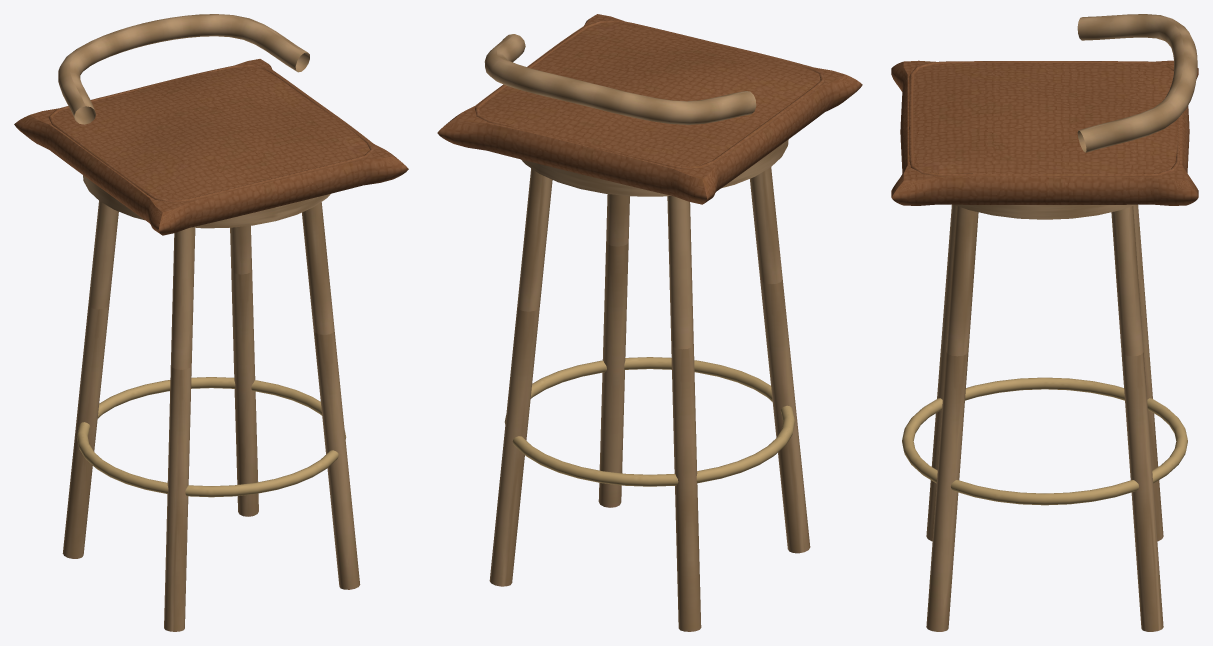
The model's file is kowhai-hero-kit-09.glb.
3 views of the same model, side by side, from view 1: azimuth 30°, elevation 25°; view 2: azimuth 150°, elevation 25°; view 3: azimuth 270°, elevation 25° (orthographic). The views are drawn at different scales.
Visible parts, largest first — view 1: SubPart (×3), BarStool_SplayedLeg_2, BarStool_SplayedLeg_1, BarStool_SplayedLeg_3, BarStool_LowLumbarBackrest, BarStool_SplayedLeg_4, BarStool_BrassFootrestRing; view 2: SubPart (×3), BarStool_SplayedLeg_3, BarStool_SplayedLeg_4, BarStool_SplayedLeg_2, BarStool_LowLumbarBackrest, BarStool_SplayedLeg_1, BarStool_BrassFootrestRing; view 3: SubPart (×3), BarStool_SplayedLeg_1, BarStool_SplayedLeg_4, BarStool_BrassFootrestRing, BarStool_LowLumbarBackrest, BarStool_SplayedLeg_2, BarStool_SplayedLeg_3.
Boxes of the visible parts, x1,y1,x2,y2 form: SubPart (×3): (14, 59, 408, 235); BarStool_SplayedLeg_2: (164, 227, 195, 631); BarStool_SplayedLeg_1: (302, 202, 360, 589); BarStool_SplayedLeg_3: (62, 201, 118, 558); BarStool_LowLumbarBackrest: (58, 14, 309, 124); BarStool_SplayedLeg_4: (230, 225, 258, 516); BarStool_BrassFootrestRing: (76, 377, 346, 497); SubPart (×3): (437, 14, 862, 204); BarStool_SplayedLeg_3: (667, 196, 701, 631); BarStool_SplayedLeg_4: (489, 168, 552, 586); BarStool_SplayedLeg_2: (750, 167, 810, 553); BarStool_LowLumbarBackrest: (484, 34, 756, 124); BarStool_SplayedLeg_1: (598, 194, 629, 507); BarStool_BrassFootrestRing: (504, 357, 795, 486); SubPart (×3): (891, 60, 1198, 219); BarStool_SplayedLeg_1: (926, 206, 978, 631); BarStool_SplayedLeg_4: (1111, 206, 1163, 631); BarStool_BrassFootrestRing: (902, 377, 1187, 505); BarStool_LowLumbarBackrest: (1077, 14, 1197, 152); BarStool_SplayedLeg_2: (926, 204, 956, 541); BarStool_SplayedLeg_3: (1133, 204, 1163, 541).
Bounding box in the file's own units: 0.4149 × 0.7872 × 0.4149.
3 materials, 3 textured.
